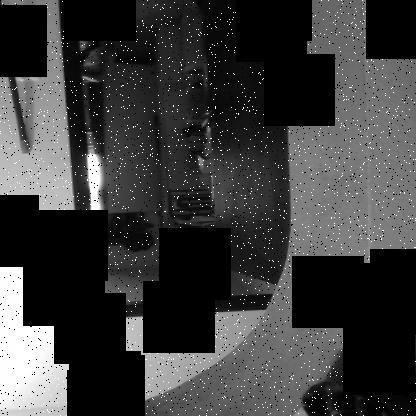Porte: (56, 0, 299, 322)
